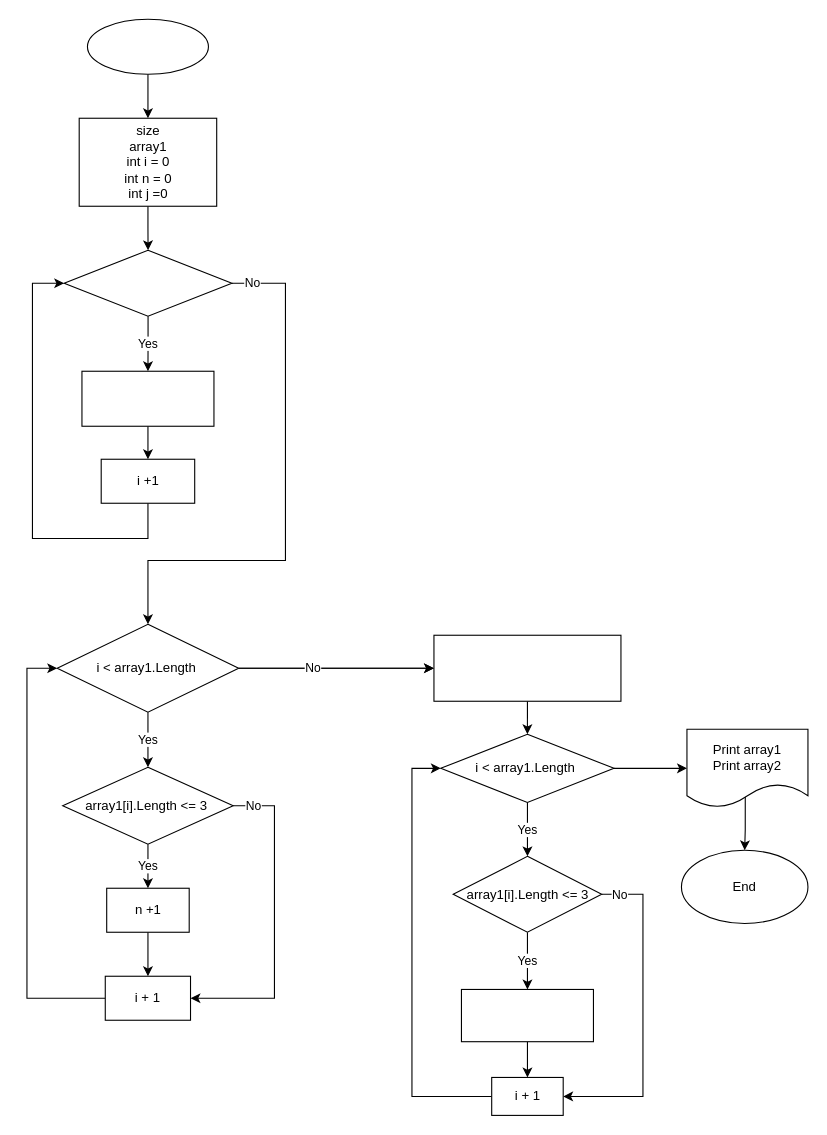
Image size: 827x1135. Some labels were removed from this diagram. The box of each missing label's shape, as (x1, y1, x2, y2) in pixels:
array1 [ i ] = resalt: (81, 370, 214, 426)
array2[j] = array1[i]: (460, 988, 593, 1042)
i < size: (63, 249, 232, 316)
Start: (86, 18, 208, 74)
string[] array2 = new string[n]: (433, 634, 621, 701)
